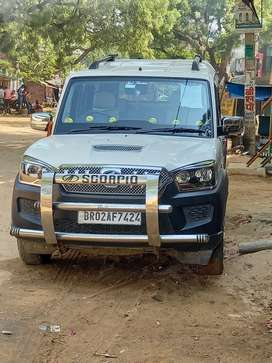BR02AF7424: (77, 211, 141, 225)
